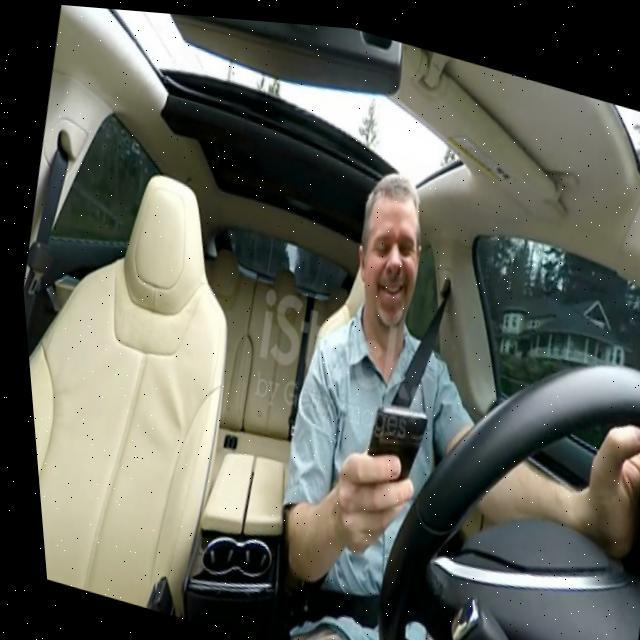PhoneCall: (344, 388, 428, 512)
